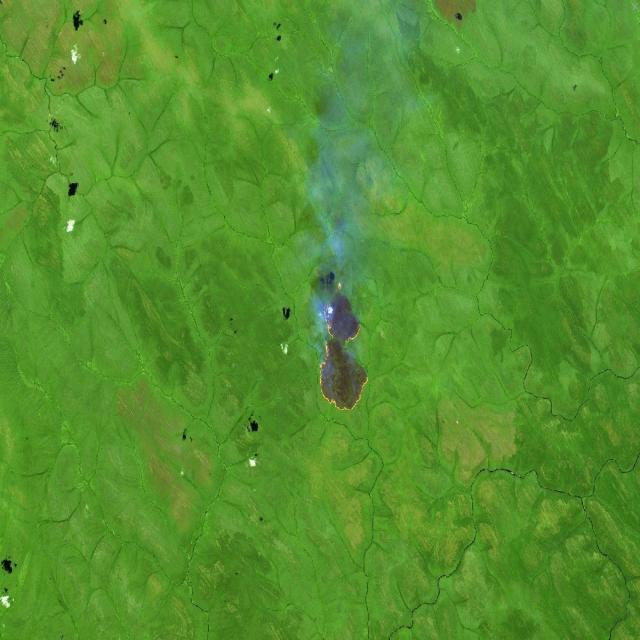fire: (314, 277, 373, 416)
